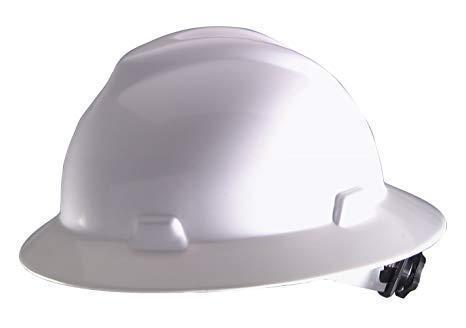helmet: (15, 23, 447, 299)
